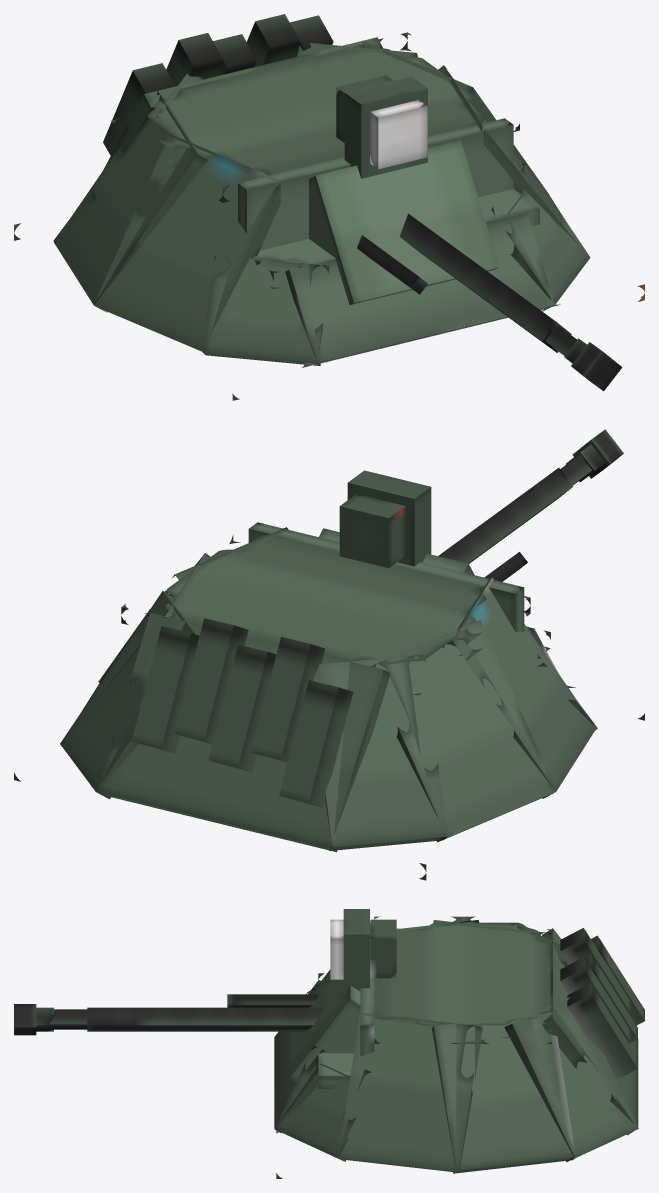
The model's file is turret_btr80.obj.
3 renders of one model, top to bottom at view 1: azimuth 30°, elevation 25°; view 2: azimuth 150°, elevation 25°; view 3: azimuth 270°, elevation 25°, orthographic. The views are drawn at different scales.
Visible parts, largest first — view 1: turret, gun; view 2: turret, gun; view 3: turret, gun.
Boxes of the visible parts, bbox=[...] form: turret: bbox=[14, 14, 644, 400]; gun: bbox=[309, 75, 622, 391]; turret: bbox=[14, 522, 644, 880]; gun: bbox=[319, 429, 623, 581]; turret: bbox=[274, 916, 644, 1178]; gun: bbox=[14, 909, 396, 1081].
Bounding box in the file's own units: 1.86 × 0.9245 × 2.81.
